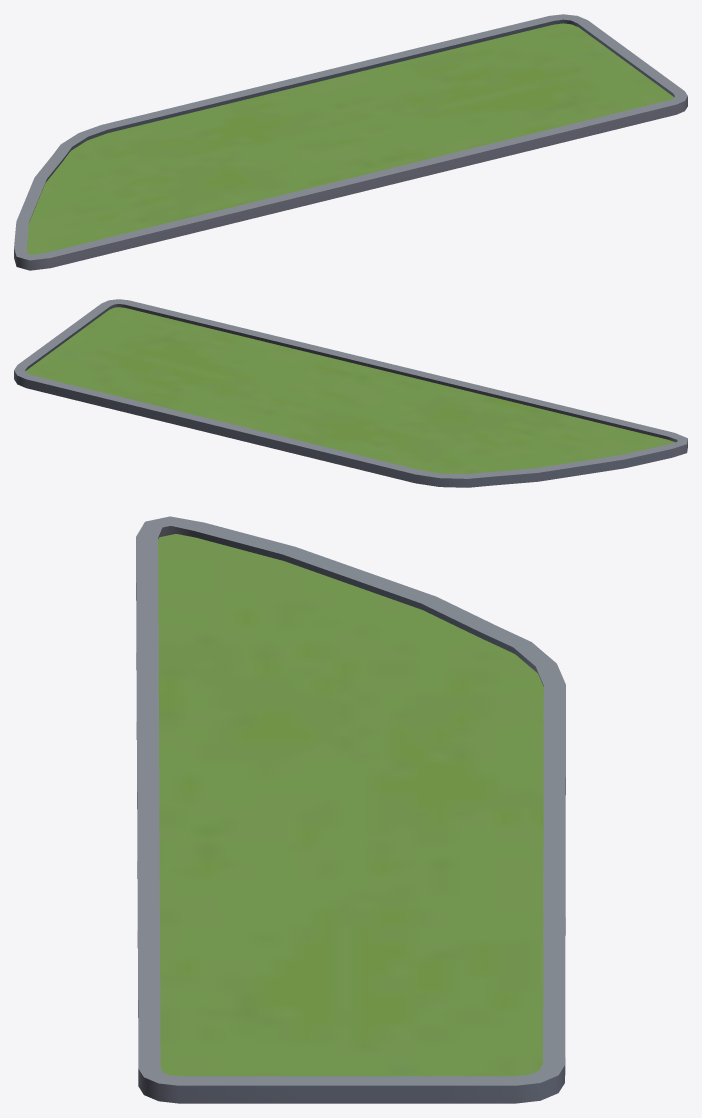
Rendered from Park Land 1.fbx.
3 views of the same model, one above another, from view 1: azimuth 30°, elevation 25°; view 2: azimuth 150°, elevation 25°; view 3: azimuth 270°, elevation 25° (orthographic). The views are drawn at different scales.
Visible parts, largest first — view 1: Park_Land; view 2: Park_Land; view 3: Park_Land.
Part boxes in pixels (bbox=[...]): Park_Land: bbox=[14, 14, 687, 270]; Park_Land: bbox=[14, 299, 687, 487]; Park_Land: bbox=[136, 516, 565, 1103].
Bounding box in the file's own units: 291 × 4.25 × 93.05.
